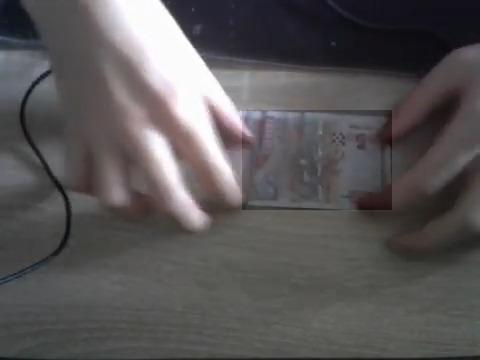5leva: (242, 110, 392, 210)
